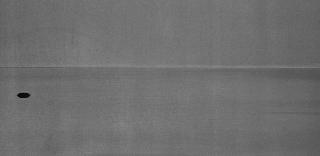punching hole: (16, 90, 38, 100)
welding line: (2, 63, 320, 73)
